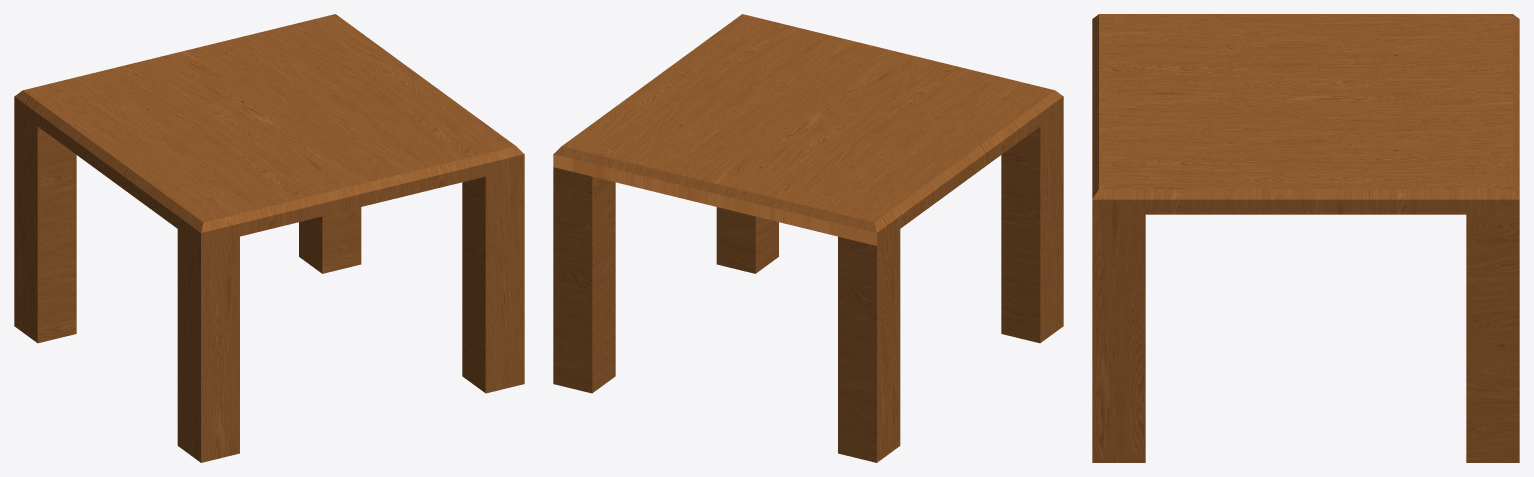
The model's file is table_textured_finished.fbx.
3 renders of one model, left to right at view 1: azimuth 30°, elevation 25°; view 2: azimuth 150°, elevation 25°; view 3: azimuth 270°, elevation 25°, orthographic. The views are drawn at different scales.
Parts seen in each view (by area): view 1: Plane; view 2: Plane; view 3: Plane.
Part boxes in pixels (x1=…): Plane: x1=14, y1=14, x2=524, y2=462; Plane: x1=553, y1=14, x2=1063, y2=462; Plane: x1=1092, y1=14, x2=1519, y2=462.
Size of the model in its own units: 100 by 70 by 100.
